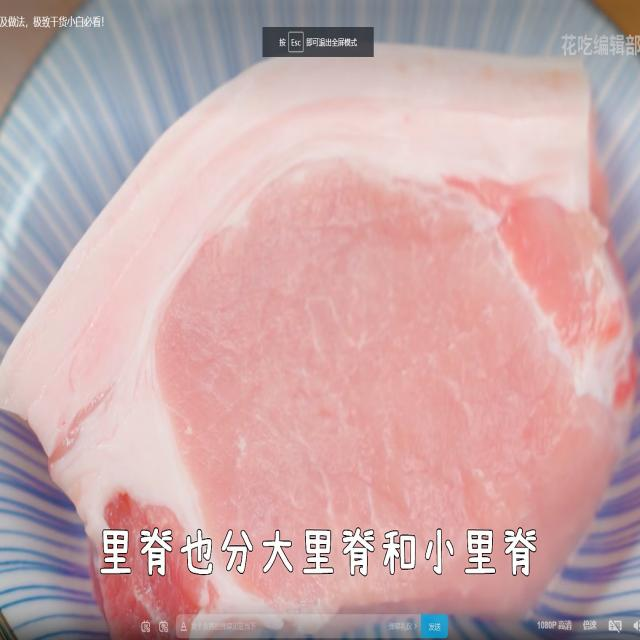Pork: (21, 77, 618, 524)
